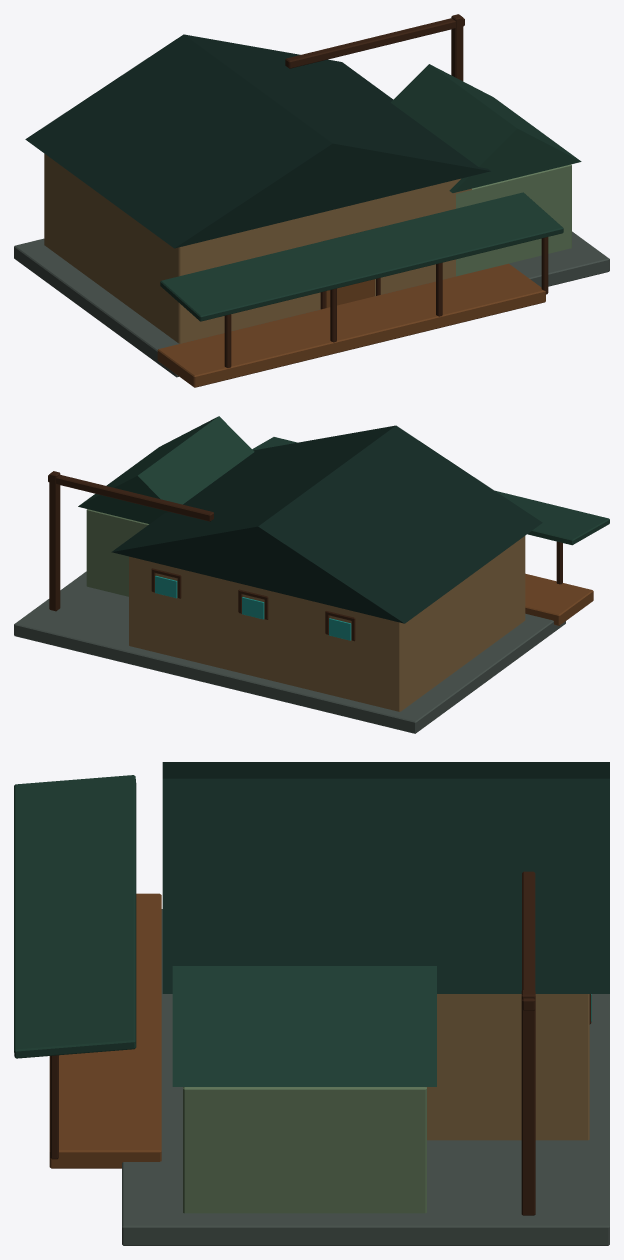
File: LumenQuartermasterDepotV2.glb
The picture shows the model from 3 angles, top to bottom: view 1: azimuth 30°, elevation 25°; view 2: azimuth 150°, elevation 25°; view 3: azimuth 270°, elevation 25°; orthographic projection. The views are drawn at different scales.
Visible parts, largest first — view 1: LumenQuartermasterDepotV2; view 2: LumenQuartermasterDepotV2; view 3: LumenQuartermasterDepotV2.
Boxes of the visible parts, x1=… form: LumenQuartermasterDepotV2: x1=14, y1=14, x2=609, y2=387; LumenQuartermasterDepotV2: x1=14, y1=416, x2=609, y2=733; LumenQuartermasterDepotV2: x1=14, y1=762, x2=609, y2=1245.
Bounding box in the file's own units: 38 × 14.9 × 29.3.
Materials: 1 (1 with a texture image).
